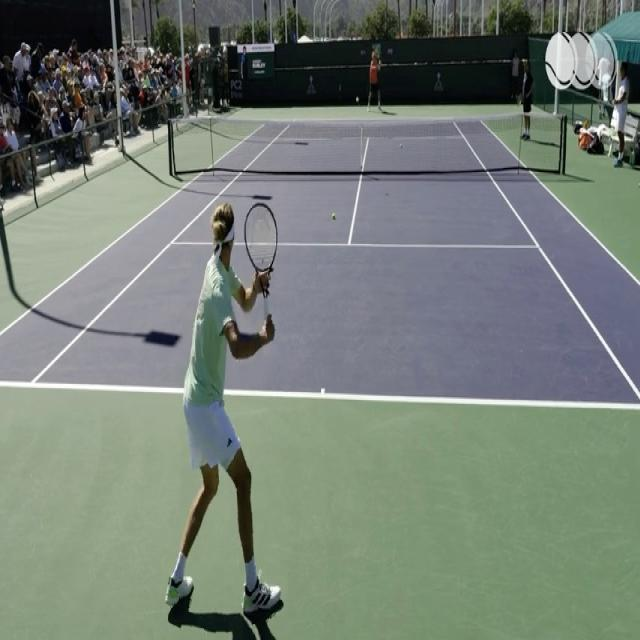forehand-ready: (167, 207, 290, 621)
